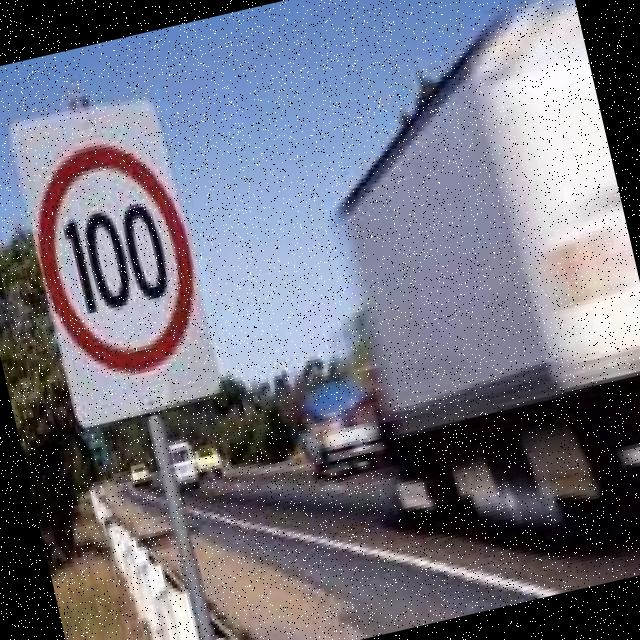speed_limit_100: (18, 126, 215, 387)
